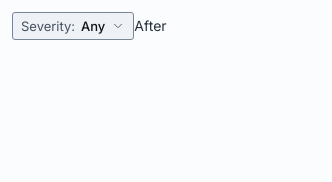
Test: FilterChip › toggles closed when the chip is clicked again
The image size is (332, 182).
Click the button "Severity: Any" at [73, 26], box [12,12,134,40]
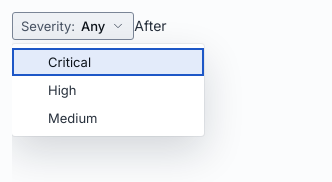
Hover over the option "Medium" at [73, 118], box [48,110,98,126]
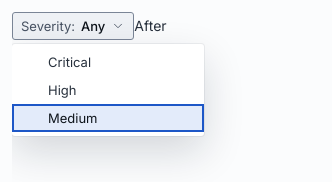
Click the button "Severity: Any" at [73, 26], box [12,12,134,40]
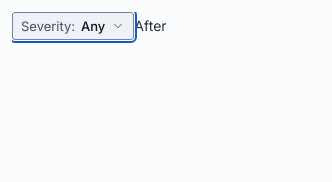
Expected: the list is gone
